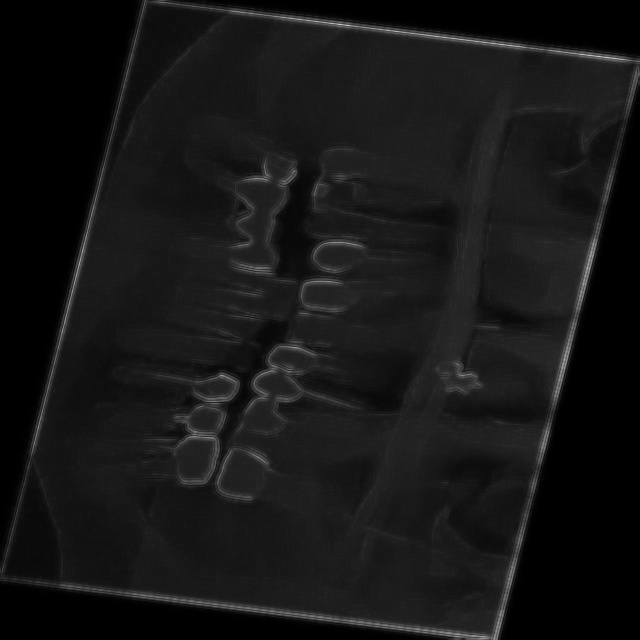Class 1- complete endodontic treatment: (67, 418, 223, 516), (143, 145, 311, 225), (248, 338, 411, 395)
Class 2- incomplete endodontic treatment: (197, 440, 362, 540)
